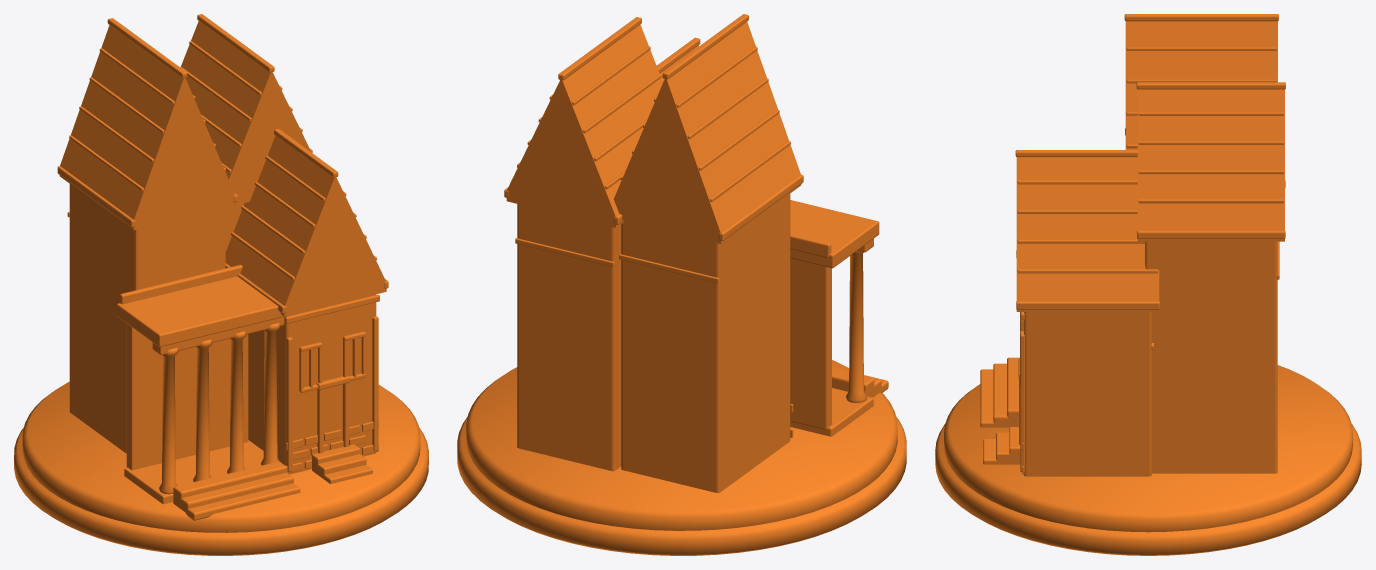
Rendered from city-orange.fbx.
3 renders of one model, left to right at view 1: azimuth 30°, elevation 25°; view 2: azimuth 150°, elevation 25°; view 3: azimuth 270°, elevation 25°, orthographic. The views are drawn at different scales.
Visible parts, largest first — view 1: City_Moulded_Sculpt; view 2: City_Moulded_Sculpt; view 3: City_Moulded_Sculpt.
Part boxes in pixels (<box>): City_Moulded_Sculpt: <box>14,14,428,555</box>; City_Moulded_Sculpt: <box>457,14,906,555</box>; City_Moulded_Sculpt: <box>935,14,1361,555</box>.
Size of the model in its own units: 0.018 by 0.02 by 0.018.
